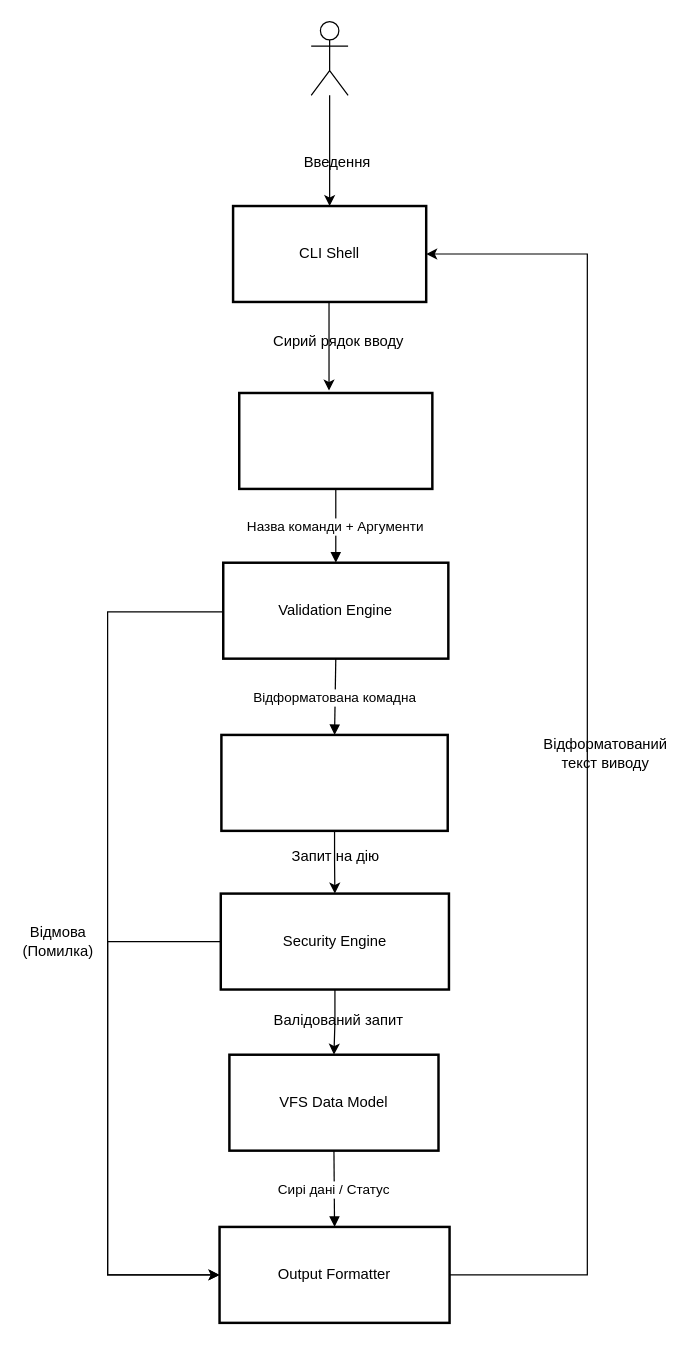
The diagram is 689 pixels wide and 1346 high, and some of its shapes have lost their labels. Here are the shapes that lost their labels. From the top down, the box of each, then its label:
(310, 20, 348, 95): Користувач
(237, 391, 433, 490): Input Parser
(220, 733, 448, 831): Execution Engine
